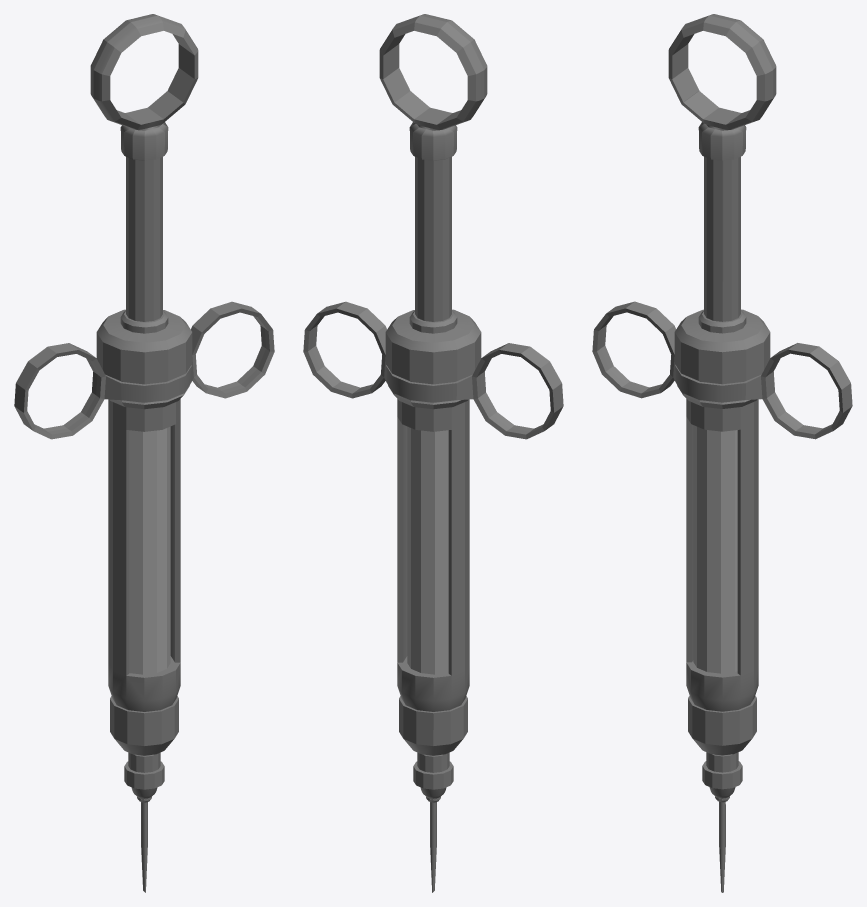
The model's file is Syringe02_Model.fbx.
The picture shows the model from 3 angles, left to right: view 1: azimuth 30°, elevation 25°; view 2: azimuth 150°, elevation 25°; view 3: azimuth 330°, elevation 25°; orthographic projection.
Visible parts, largest first — view 1: pCylinder5, pTorus3, pCylinder18; view 2: pCylinder5, pTorus3, pCylinder18; view 3: pCylinder5, pTorus3, pCylinder18.
Part boxes in pixels (bbox=[...]): pCylinder5: bbox=[14, 301, 274, 892]; pTorus3: bbox=[90, 14, 198, 321]; pCylinder18: bbox=[129, 426, 170, 674]; pCylinder5: bbox=[303, 301, 563, 892]; pTorus3: bbox=[379, 14, 487, 321]; pCylinder18: bbox=[407, 426, 448, 674]; pCylinder5: bbox=[592, 301, 852, 892]; pTorus3: bbox=[668, 14, 776, 321]; pCylinder18: bbox=[693, 425, 737, 673].
Size of the model in its own units: 4.94 by 16.46 by 1.63.
